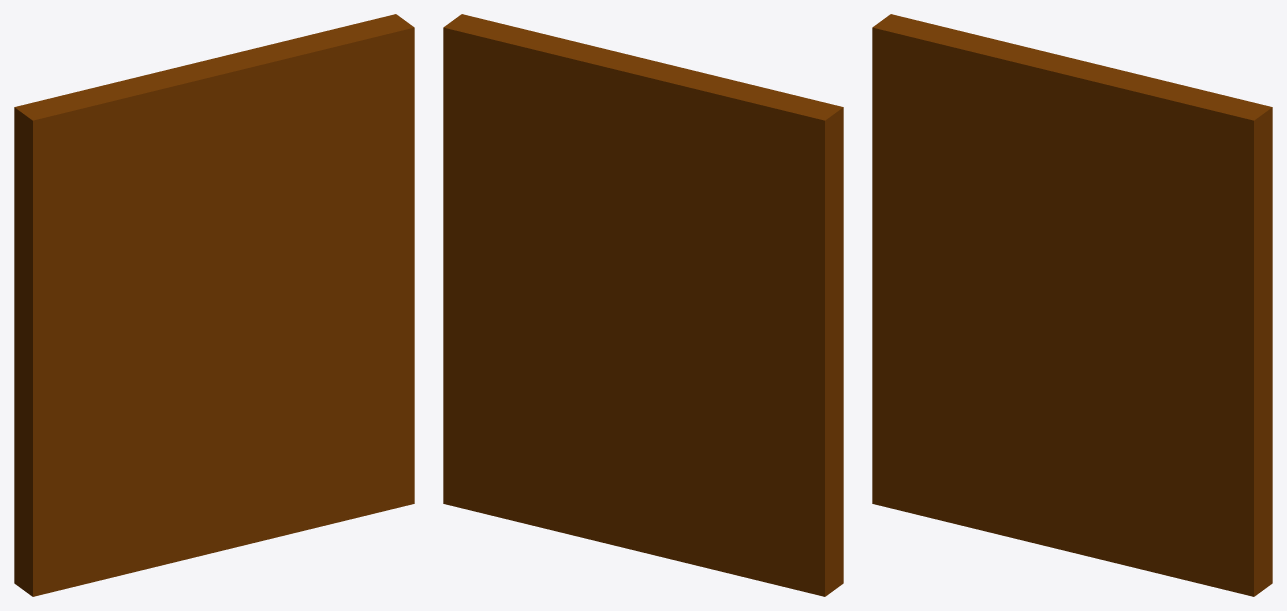
Rendered from door_puzzle.glb.
The picture shows the model from 3 angles, left to right: view 1: azimuth 30°, elevation 25°; view 2: azimuth 150°, elevation 25°; view 3: azimuth 330°, elevation 25°; orthographic projection.
Parts seen in each view (by area): view 1: door_puzzle; view 2: door_puzzle; view 3: door_puzzle.
Boxes of the visible parts, box(x1,y1,x2,y2) form: door_puzzle: box(14, 14, 414, 596); door_puzzle: box(443, 14, 843, 596); door_puzzle: box(872, 14, 1272, 596).
Size of the model in its own units: 2.38 by 2.84 by 0.2.
Materials: 1 (1 with a texture image).
